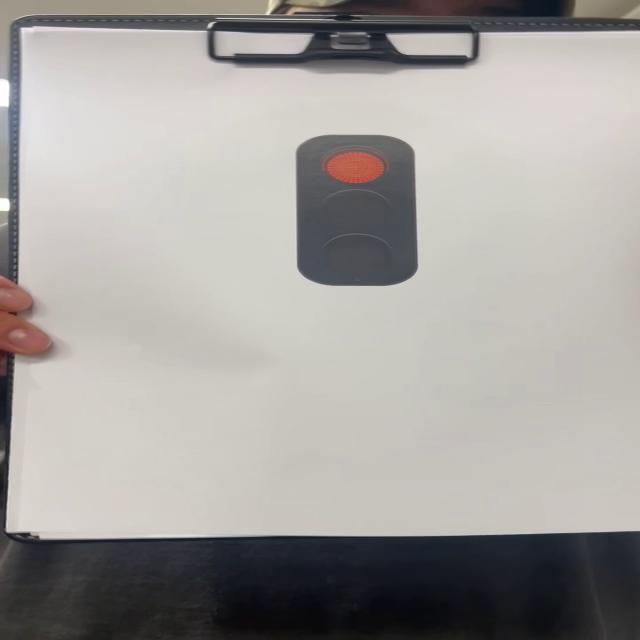red: (299, 133, 420, 289)
